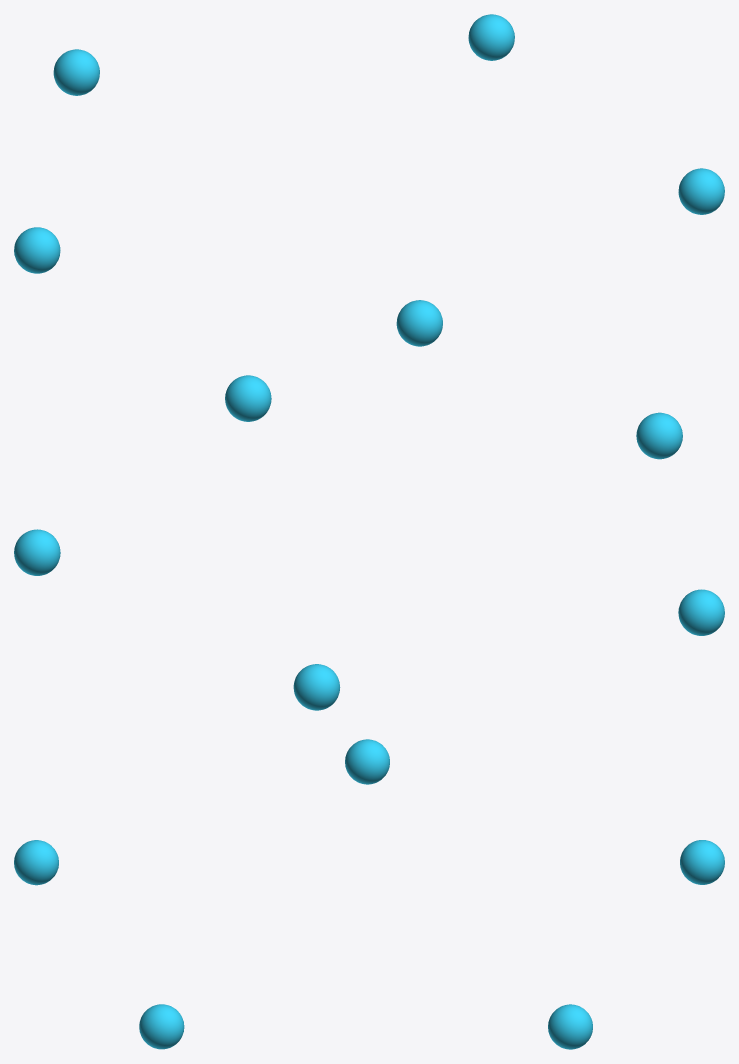
The picture shows the model from 3 angles, top to bottom: view 1: azimuth 30°, elevation 25°; view 2: azimuth 150°, elevation 25°; view 3: azimuth 270°, elevation 25°; orthographic projection. The views are drawn at different scales.
Visible parts, largest first — view 1: Sphere048; view 2: Sphere048; view 3: Sphere048.
Part boxes in pixels (left/top/right/bottom): Sphere048: left=14, top=14, right=724, bottom=346; Sphere048: left=14, top=375, right=724, bottom=710; Sphere048: left=14, top=739, right=724, bottom=1049.
Size of the model in its own units: 122 by 8.22 by 129.
